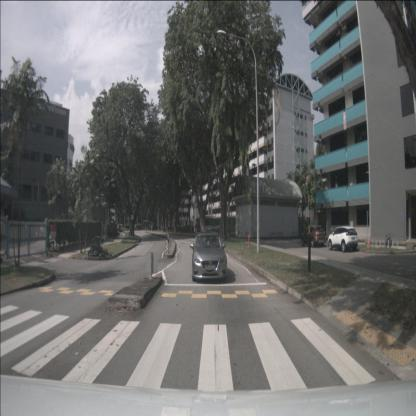cone: (366, 236, 370, 252)
